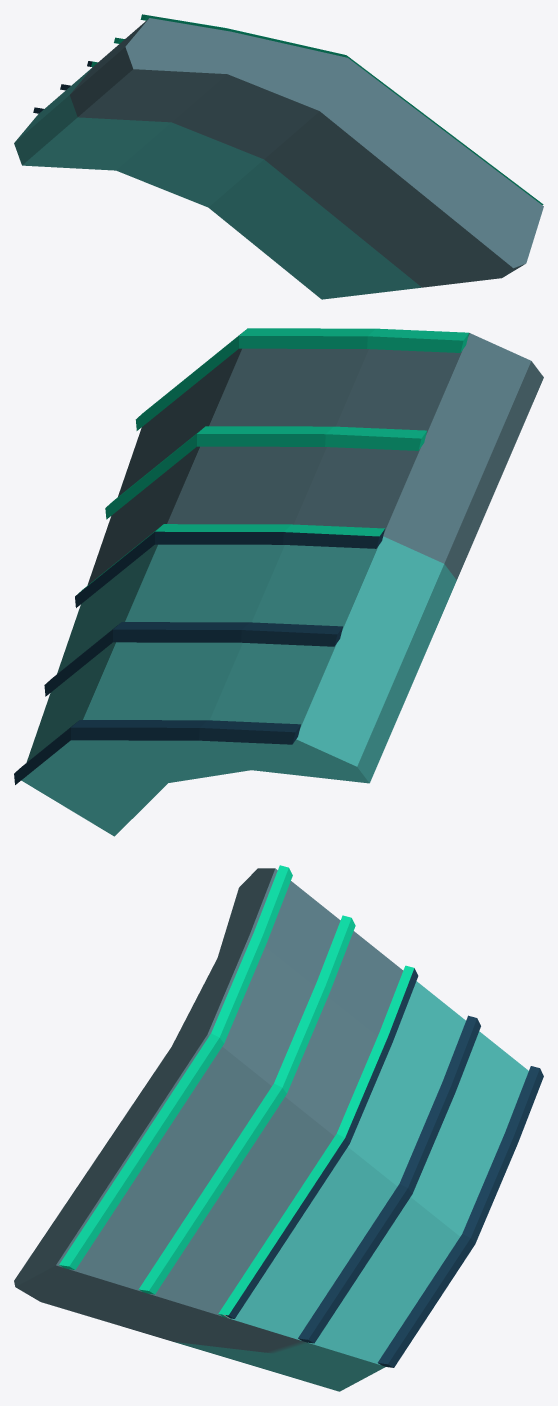
Rendered from Freighter_Guard.02.fbx.
The picture shows the model from 3 angles, top to bottom: view 1: azimuth 30°, elevation 25°; view 2: azimuth 150°, elevation 25°; view 3: azimuth 270°, elevation 25°; orthographic projection. The views are drawn at different scales.
Visible parts, largest first — view 1: CruiserGuard_02_LOD0; view 2: CruiserGuard_02_LOD0; view 3: CruiserGuard_02_LOD0.
Boxes of the visible parts, left/top/right/bottom form: CruiserGuard_02_LOD0: left=14, top=14, right=543, bottom=299; CruiserGuard_02_LOD0: left=14, top=328, right=543, bottom=836; CruiserGuard_02_LOD0: left=14, top=865, right=543, bottom=1391.
Size of what is drawn, in the model's own units: 6149 by 6210 by 7242.
1 material, 1 textured.
